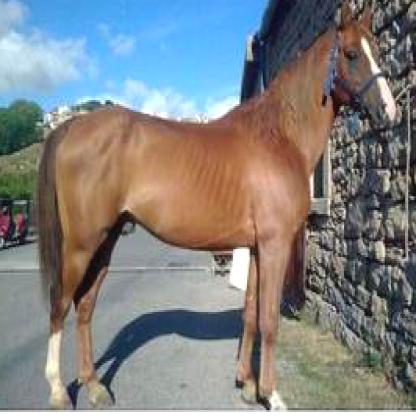horse: (33, 0, 397, 412)
